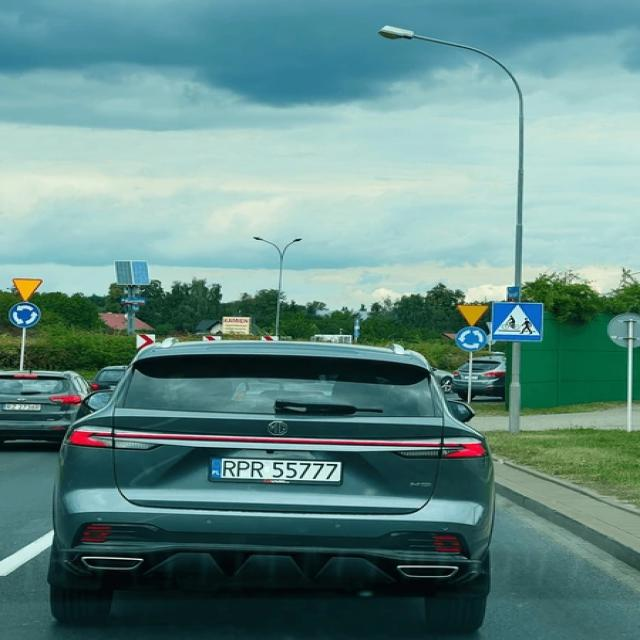mg: (267, 419, 295, 439)
